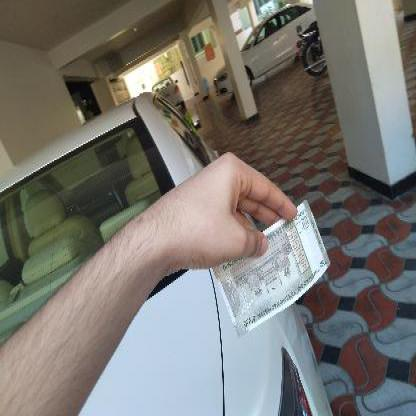New500Back: (206, 199, 342, 340)
